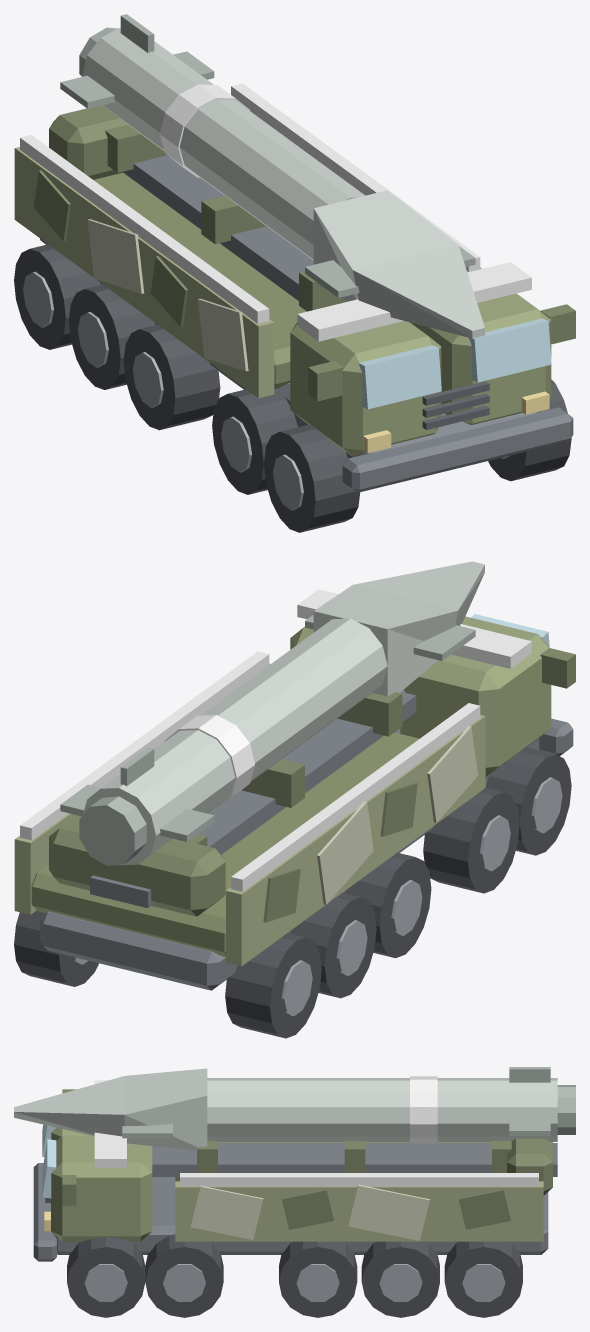
The model's file is launcher.glb.
3 views of the same model, one above another, from view 1: azimuth 30°, elevation 25°; view 2: azimuth 150°, elevation 25°; view 3: azimuth 270°, elevation 25° (orthographic). The views are drawn at different scales.
Visible parts, largest first — view 1: main, turret; view 2: main, turret; view 3: main, turret.
Part boxes in pixels (x1,y1,x2,y2): main: [14, 83, 575, 532]; turret: [60, 14, 484, 338]; main: [14, 589, 575, 1038]; turret: [60, 561, 484, 908]; main: [33, 1080, 552, 1317]; turret: [14, 1067, 575, 1176].
Bounding box in the file's own units: 0.495 × 0.485 × 1.22.
